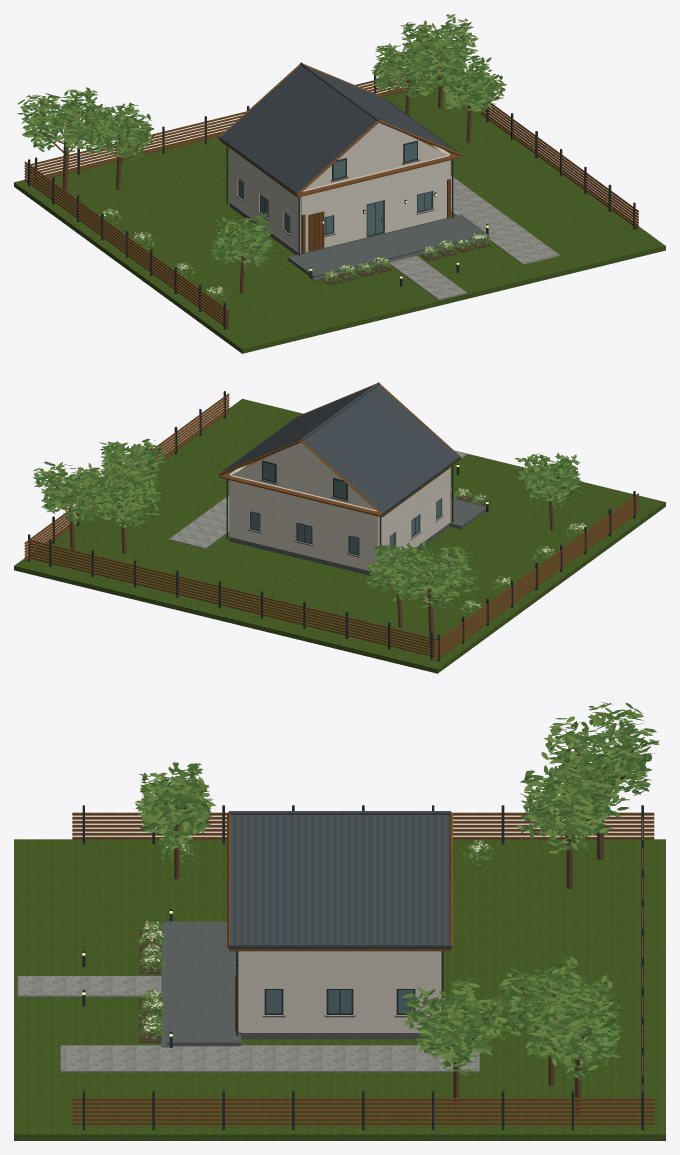
Rendered from casa-07.glb.
3 views of the same model, one above another, from view 1: azimuth 30°, elevation 25°; view 2: azimuth 150°, elevation 25°; view 3: azimuth 270°, elevation 25° (orthographic). The views are drawn at different scales.
Visible parts, largest first — view 1: landscape_grass.006, architecture_stucco.005, architecture_roof.005, landscape_leaf-light.006, landscape_leaf.006, landscape_wood.006, landscape_stone.006, landscape_paving.006, architecture_wood.006, architecture_glass.006, architecture_metal.006, landscape_metal.006 (+3 smaller); view 2: landscape_grass.006, architecture_stucco.005, landscape_wood.006, architecture_roof.005, landscape_leaf-light.006, landscape_leaf.006, architecture_wood.006, landscape_metal.006, landscape_paving.006, architecture_metal.006, architecture_glass.006, landscape_trunk.006 (+2 smaller); view 3: landscape_grass.006, architecture_roof.005, landscape_leaf-light.006, landscape_leaf.006, landscape_wood.006, architecture_stucco.005, landscape_paving.006, landscape_stone.006, landscape_metal.006, architecture_wood.006, architecture_metal.006, landscape_trunk.006 (+3 smaller).
Boxes of the visible parts, left/top/right/bottom form: landscape_grass.006: left=14, top=81, right=665, bottom=353; architecture_stucco.005: left=229, top=123, right=450, bottom=252; architecture_roof.005: left=221, top=62, right=455, bottom=192; landscape_leaf-light.006: left=17, top=14, right=506, bottom=299; landscape_leaf.006: left=17, top=17, right=505, bottom=302; landscape_wood.006: left=24, top=67, right=638, bottom=329; landscape_stone.006: left=287, top=214, right=490, bottom=281; landscape_paving.006: left=389, top=175, right=559, bottom=299; architecture_wood.006: left=219, top=64, right=460, bottom=253; architecture_glass.006: left=239, top=142, right=431, bottom=235; architecture_metal.006: left=218, top=97, right=461, bottom=255; landscape_metal.006: left=28, top=75, right=635, bottom=329; landscape_grass.006: left=14, top=399, right=665, bottom=673; architecture_stucco.005: left=229, top=442, right=450, bottom=571; landscape_wood.006: left=24, top=393, right=638, bottom=660; architecture_roof.005: left=224, top=382, right=458, bottom=512; landscape_leaf-light.006: left=33, top=439, right=587, bottom=615; landscape_leaf.006: left=33, top=438, right=587, bottom=616; architecture_wood.006: left=219, top=384, right=460, bottom=519; landscape_metal.006: left=28, top=391, right=635, bottom=661; landscape_paving.006: left=169, top=451, right=466, bottom=548; architecture_metal.006: left=218, top=417, right=461, bottom=555; architecture_glass.006: left=250, top=462, right=440, bottom=554; landscape_trunk.006: left=50, top=457, right=562, bottom=645; landscape_grass.006: left=14, top=839, right=665, bottom=1140; architecture_roof.005: left=229, top=811, right=450, bottom=945; landscape_leaf-light.006: left=135, top=702, right=659, bottom=1076; landscape_leaf.006: left=135, top=702, right=659, bottom=1079; landscape_wood.006: left=72, top=812, right=654, bottom=1124; architecture_stucco.005: left=238, top=951, right=441, bottom=1032; landscape_paving.006: left=17, top=976, right=479, bottom=1072; landscape_stone.006: left=161, top=921, right=240, bottom=1047; landscape_metal.006: left=82, top=805, right=643, bottom=1129; architecture_wood.006: left=227, top=812, right=452, bottom=1031; architecture_metal.006: left=229, top=945, right=450, bottom=1035; landscape_trunk.006: left=156, top=726, right=633, bottom=1113.
Bounding box in the file's own units: 31.63 × 8.64 × 28.
Materials: 16 (5 with a texture image).
